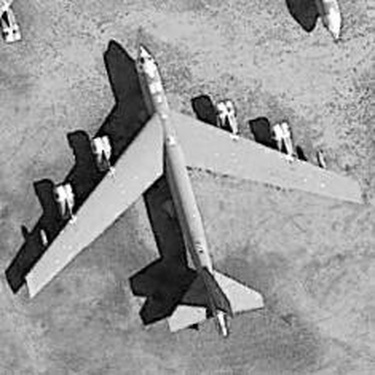airplane: (18, 12, 367, 355)
